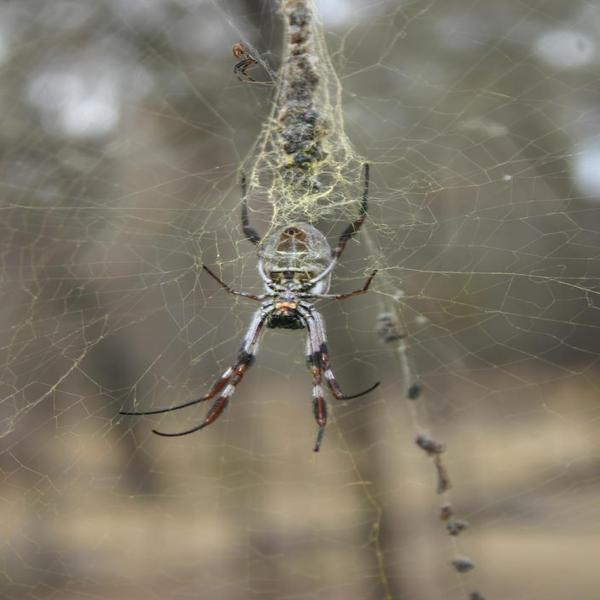Garden Orb Weaver Spider: (157, 168, 381, 436)
